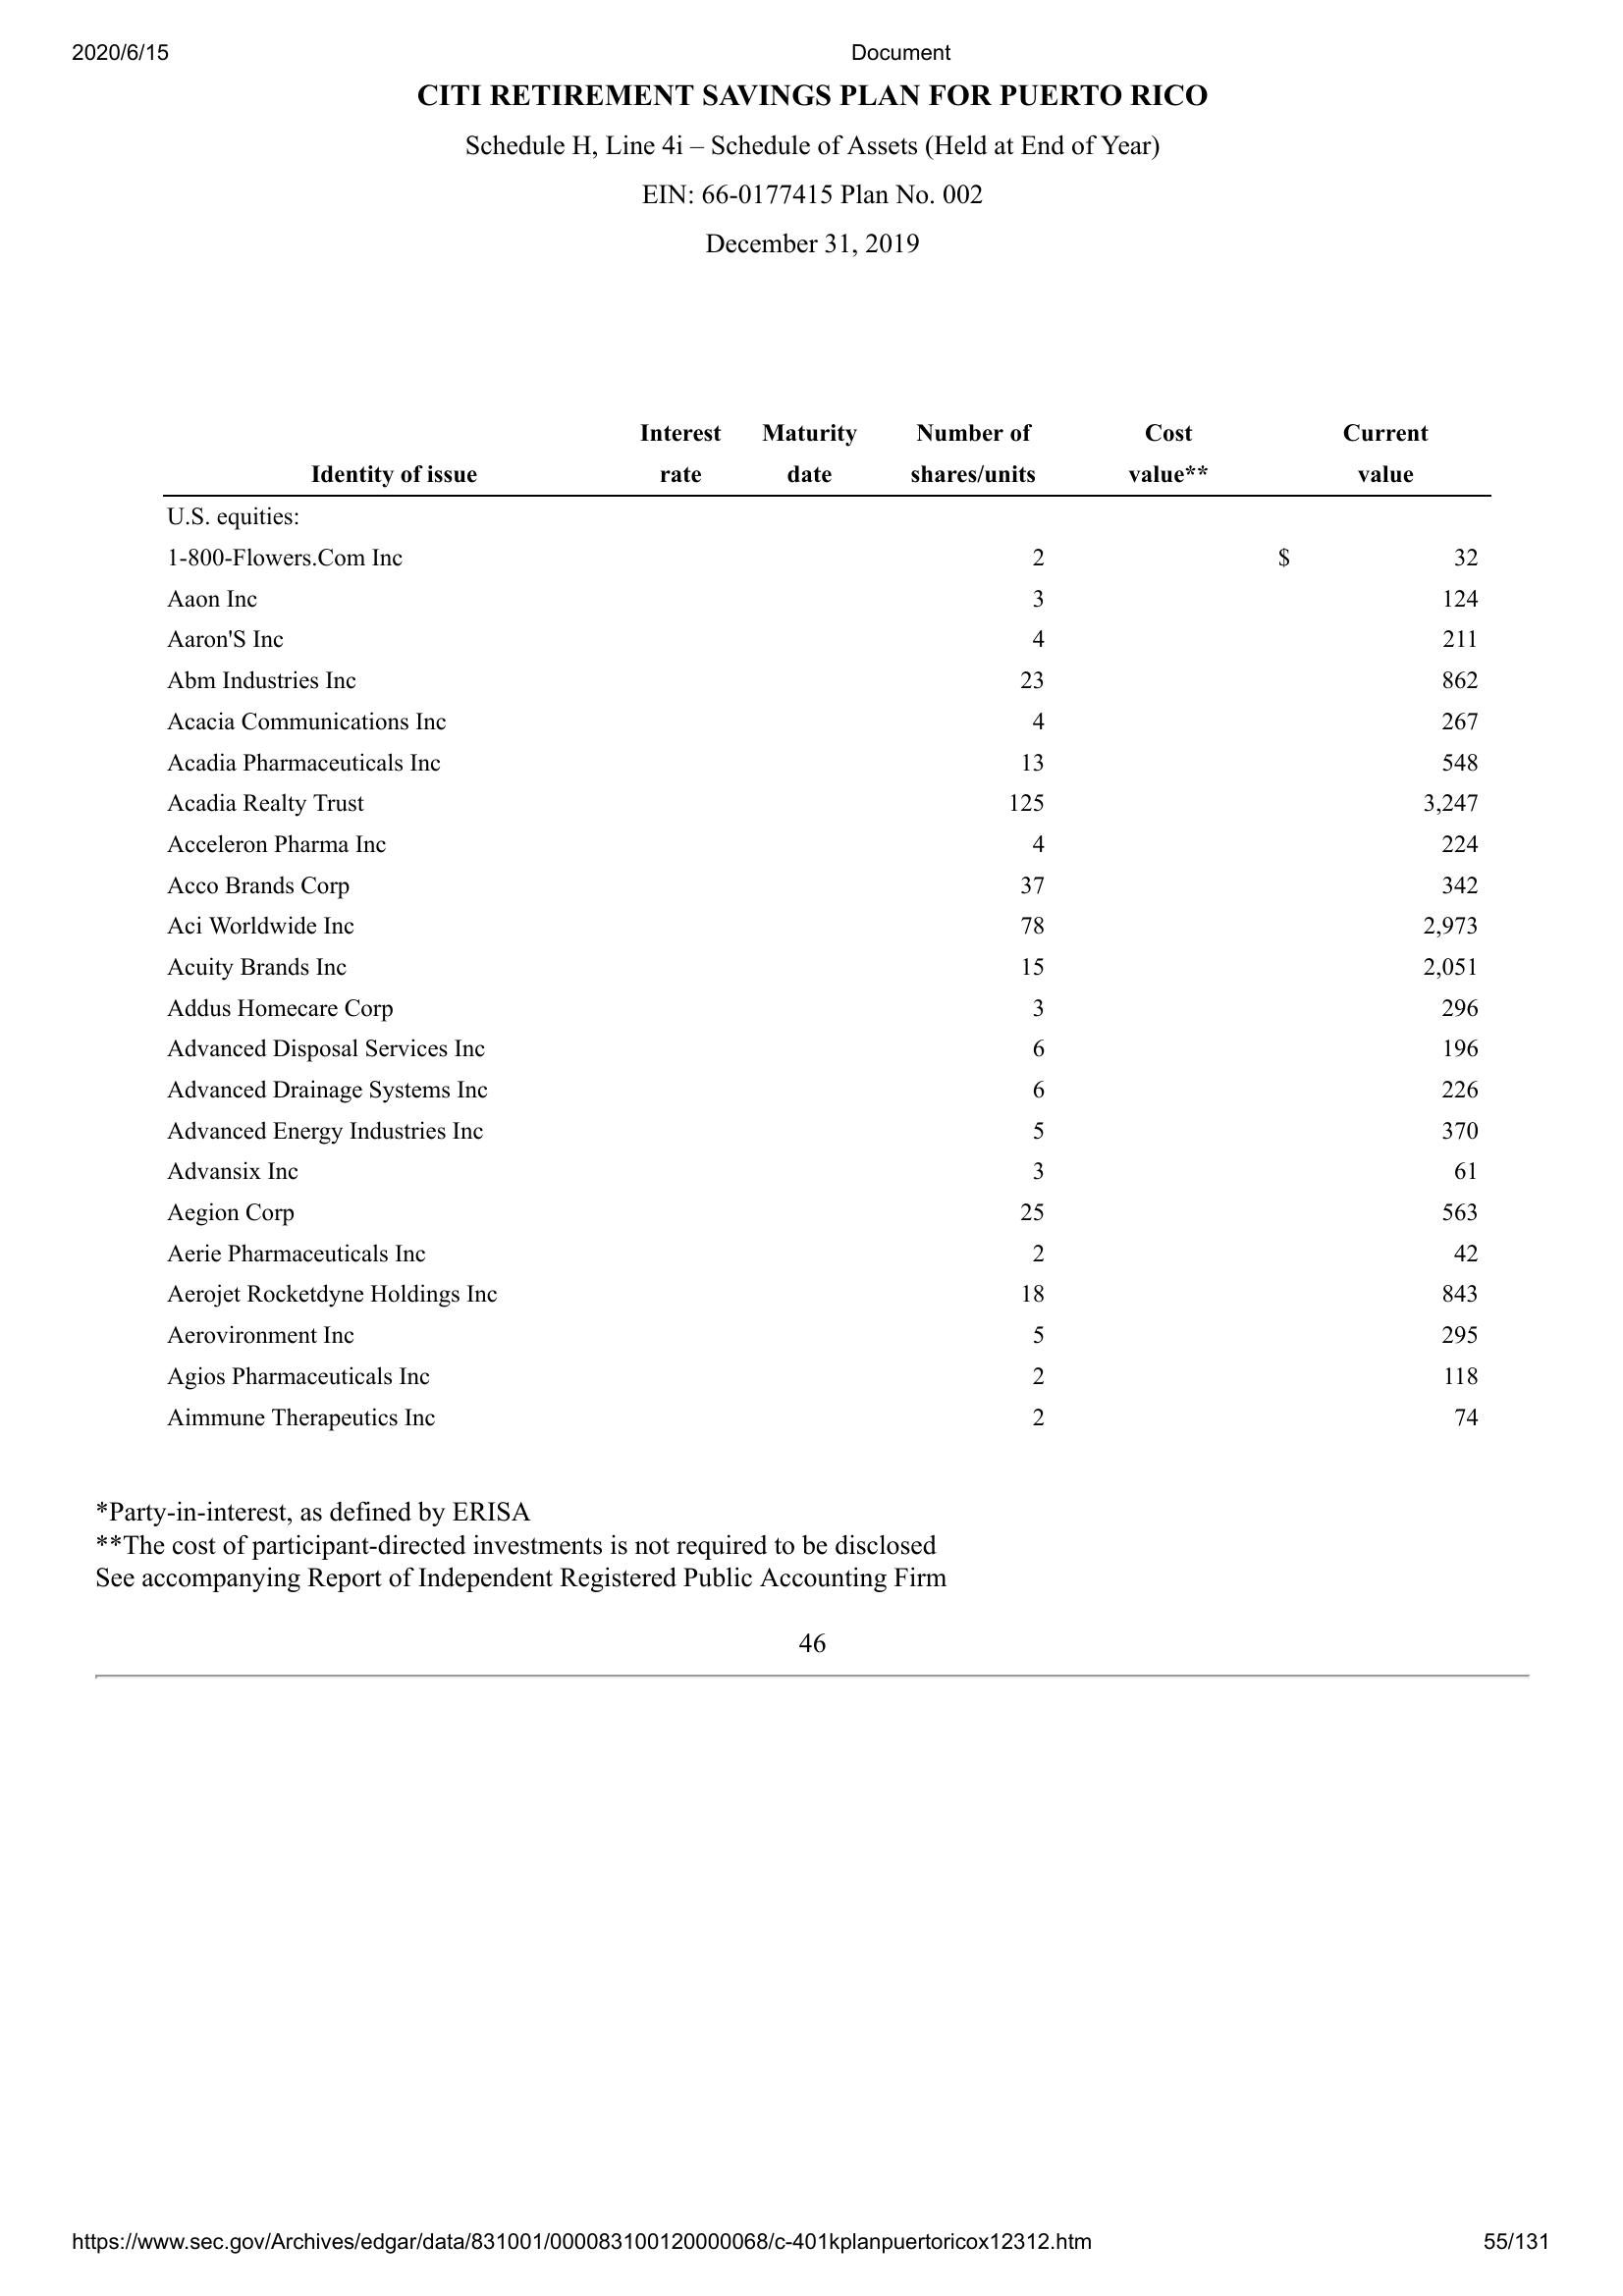table: (162, 421, 1488, 1441)
